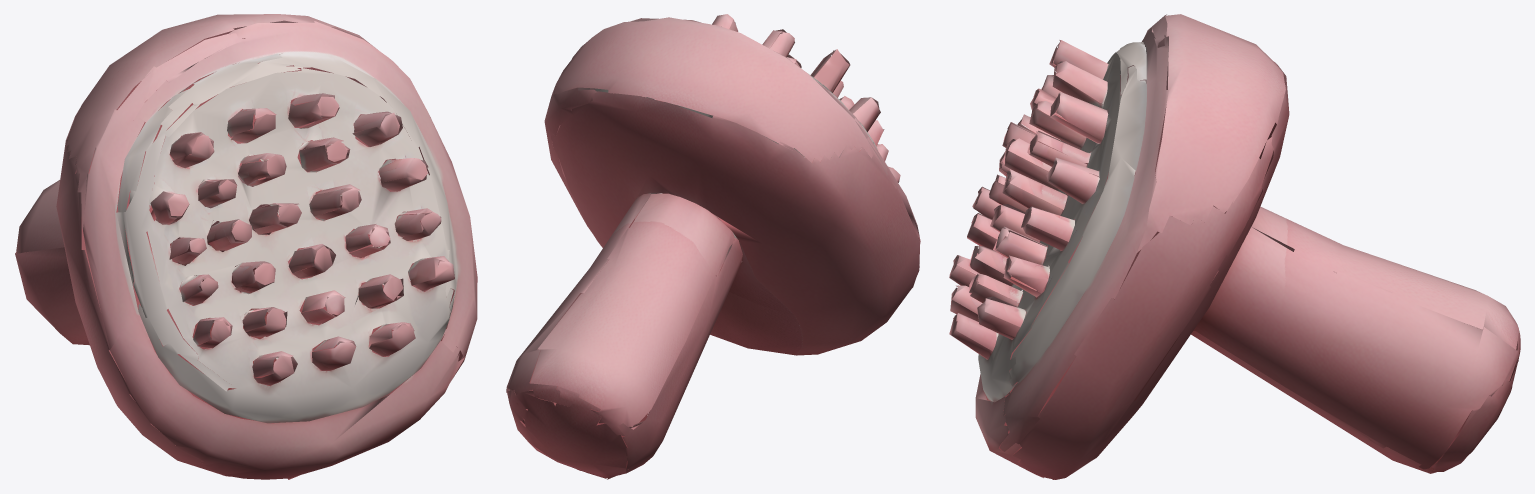
The model's file is P_SlickerBrush_h12.fbx.
3 renders of one model, left to right at view 1: azimuth 30°, elevation 25°; view 2: azimuth 150°, elevation 25°; view 3: azimuth 270°, elevation 25°, orthographic. The views are drawn at different scales.
Visible parts, largest first — view 1: P_SlickerBrush; view 2: P_SlickerBrush; view 3: P_SlickerBrush.
Part boxes in pixels (<box>): P_SlickerBrush: <box>15,14,477,479</box>; P_SlickerBrush: <box>506,14,920,479</box>; P_SlickerBrush: <box>949,14,1520,479</box>.
Bounding box in the file's own units: 0.9493 × 1 × 1.22.
1 material, 1 textured.
